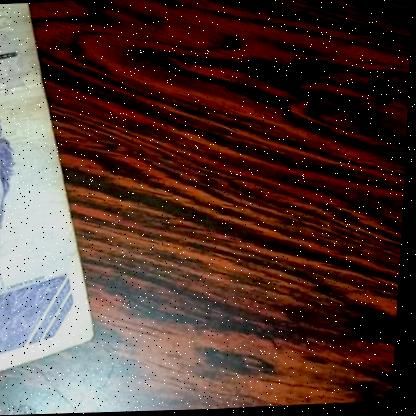ten-front-vef: (0, 0, 119, 392)
